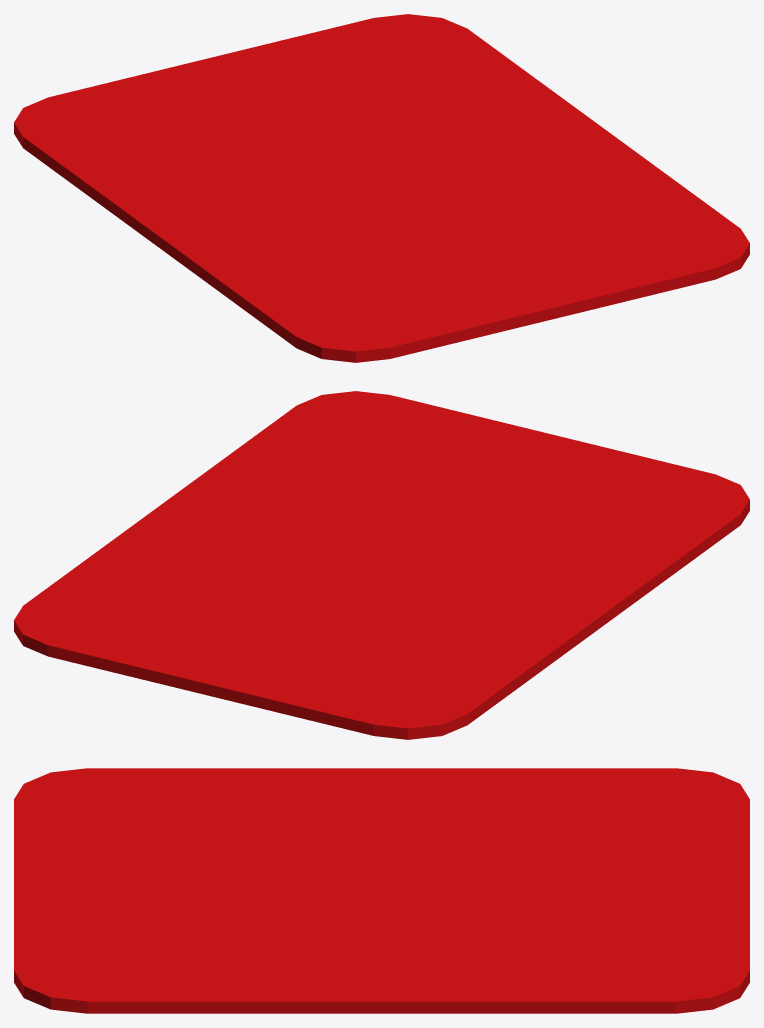
The model's file is card_red.glb.
The picture shows the model from 3 angles, top to bottom: view 1: azimuth 30°, elevation 25°; view 2: azimuth 150°, elevation 25°; view 3: azimuth 270°, elevation 25°; orthographic projection. The views are drawn at different scales.
Visible parts, largest first — view 1: Card_Red; view 2: Card_Red; view 3: Card_Red.
Boxes of the visible parts, <box> form: Card_Red: <box>14,14,749,362</box>; Card_Red: <box>14,391,749,739</box>; Card_Red: <box>14,768,749,1013</box>.
Size of the model in its own units: 0.09 by 0.0022 by 0.12.
